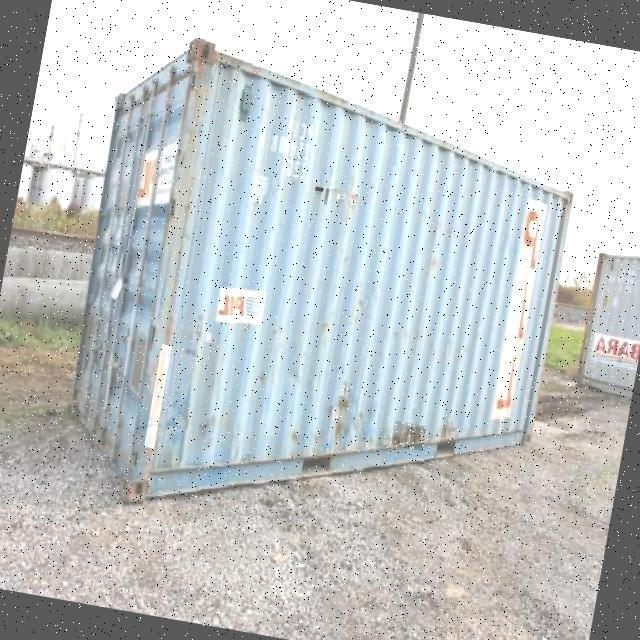rust: (145, 345, 173, 449), (392, 422, 428, 452), (338, 382, 354, 412), (324, 189, 330, 205), (351, 194, 359, 203), (315, 188, 324, 195), (338, 194, 347, 200)
